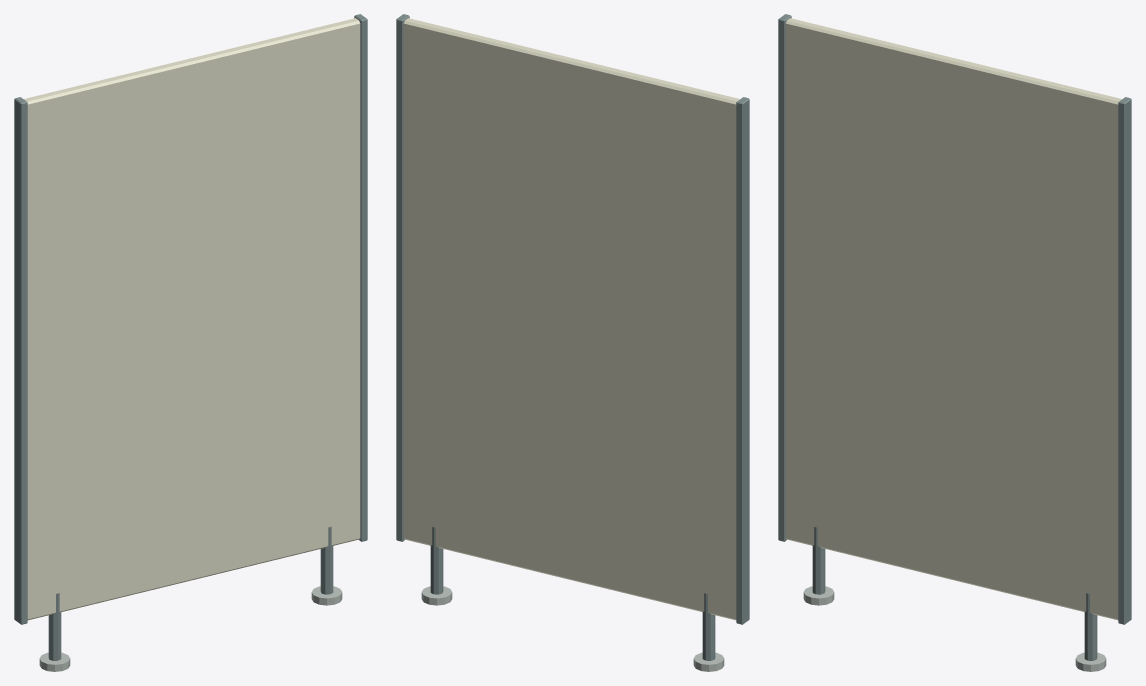
Rendered from stall_partition.glb.
3 views of the same model, side by side, from view 1: azimuth 30°, elevation 25°; view 2: azimuth 150°, elevation 25°; view 3: azimuth 330°, elevation 25° (orthographic).
Parts seen in each view (by area): view 1: stall_partition__paper, stall_partition__metal_light, stall_partition__steel; view 2: stall_partition__paper, stall_partition__metal_light, stall_partition__steel; view 3: stall_partition__paper, stall_partition__metal_light, stall_partition__steel.
Part boxes in pixels (<box>): stall_partition__paper: <box>23,18,360,620</box>; stall_partition__metal_light: <box>14,14,367,660</box>; stall_partition__steel: <box>39,586,342,671</box>; stall_partition__paper: <box>403,18,740,620</box>; stall_partition__metal_light: <box>396,14,749,660</box>; stall_partition__steel: <box>421,586,724,671</box>; stall_partition__paper: <box>785,18,1122,620</box>; stall_partition__metal_light: <box>778,14,1131,660</box>; stall_partition__steel: <box>803,586,1106,671</box>.
Size of the model in its own units: 1.23 by 1.93 by 0.094.
